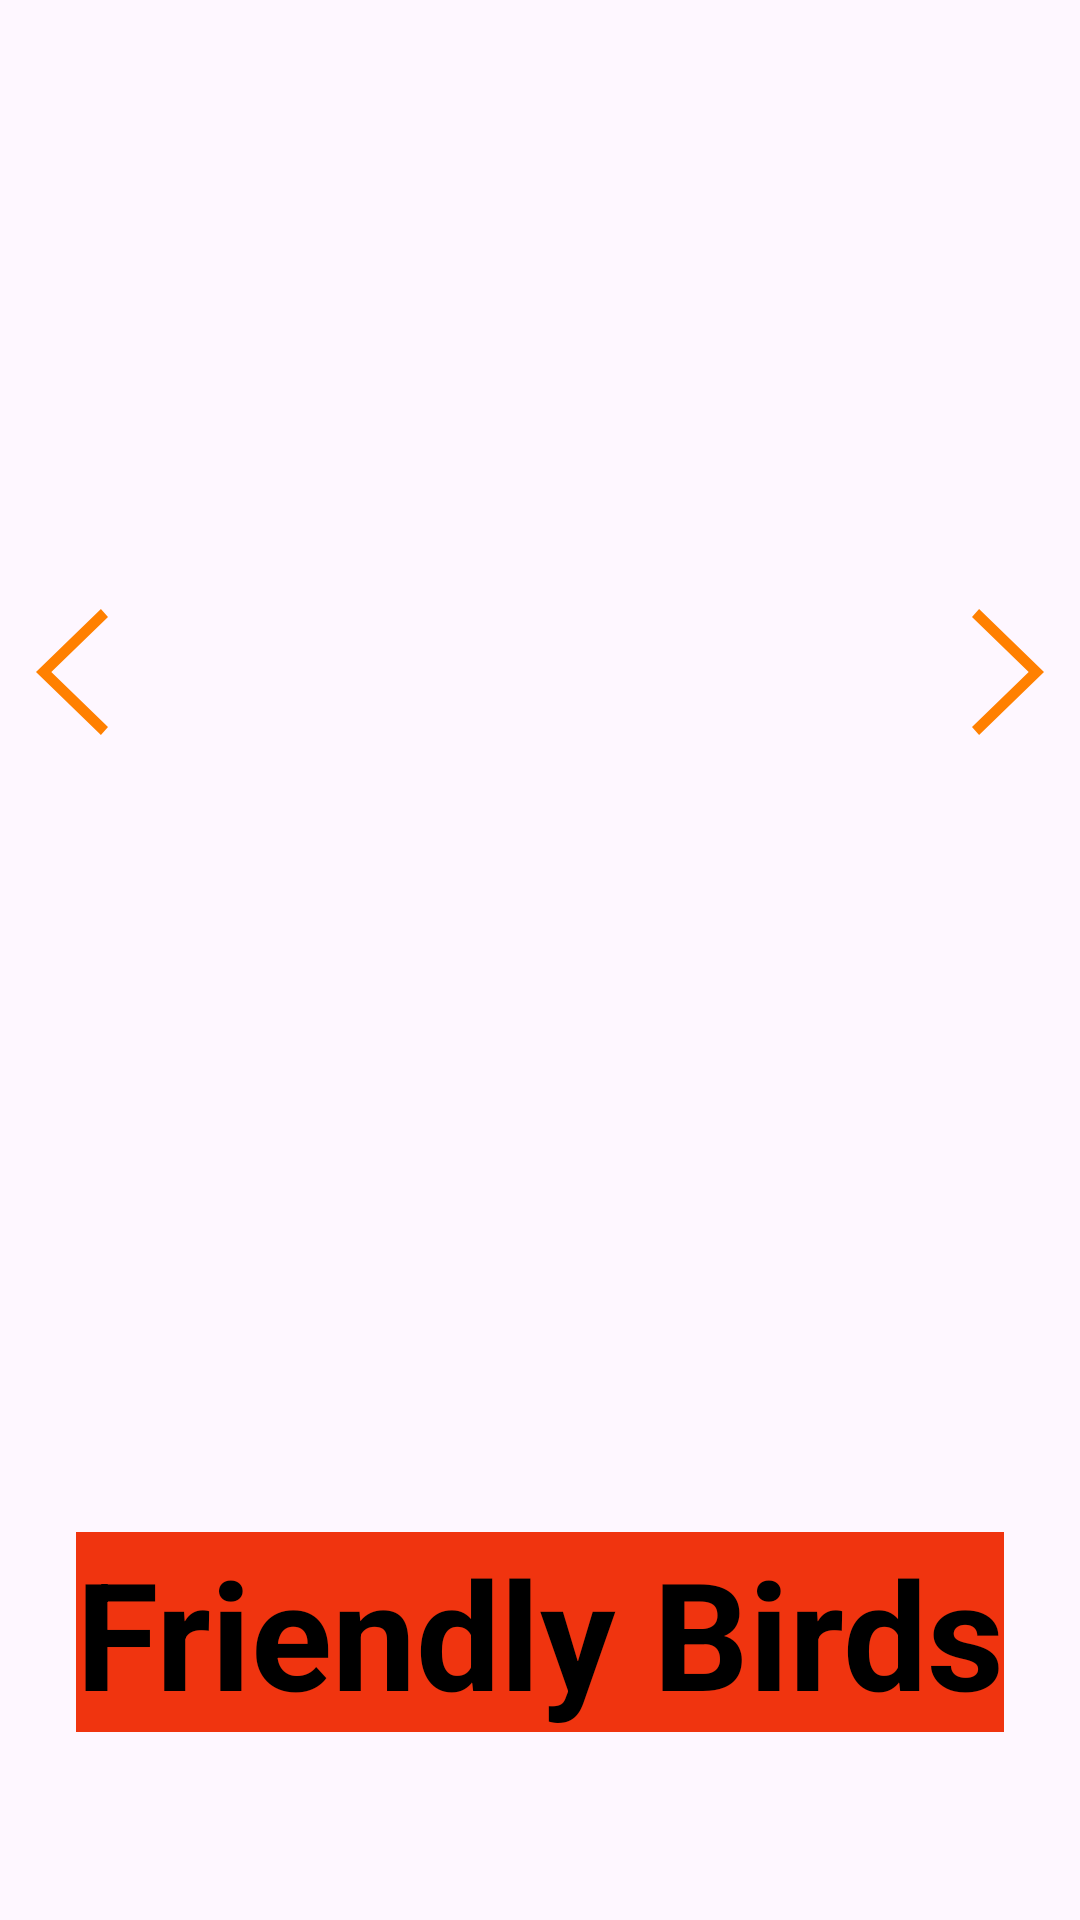

Screen size 1080*1920. Icon name, then its box in pixels as (x1, y1, x2, y2):
left arrow: (36, 609, 108, 735)
right arrow: (972, 609, 1044, 735)
